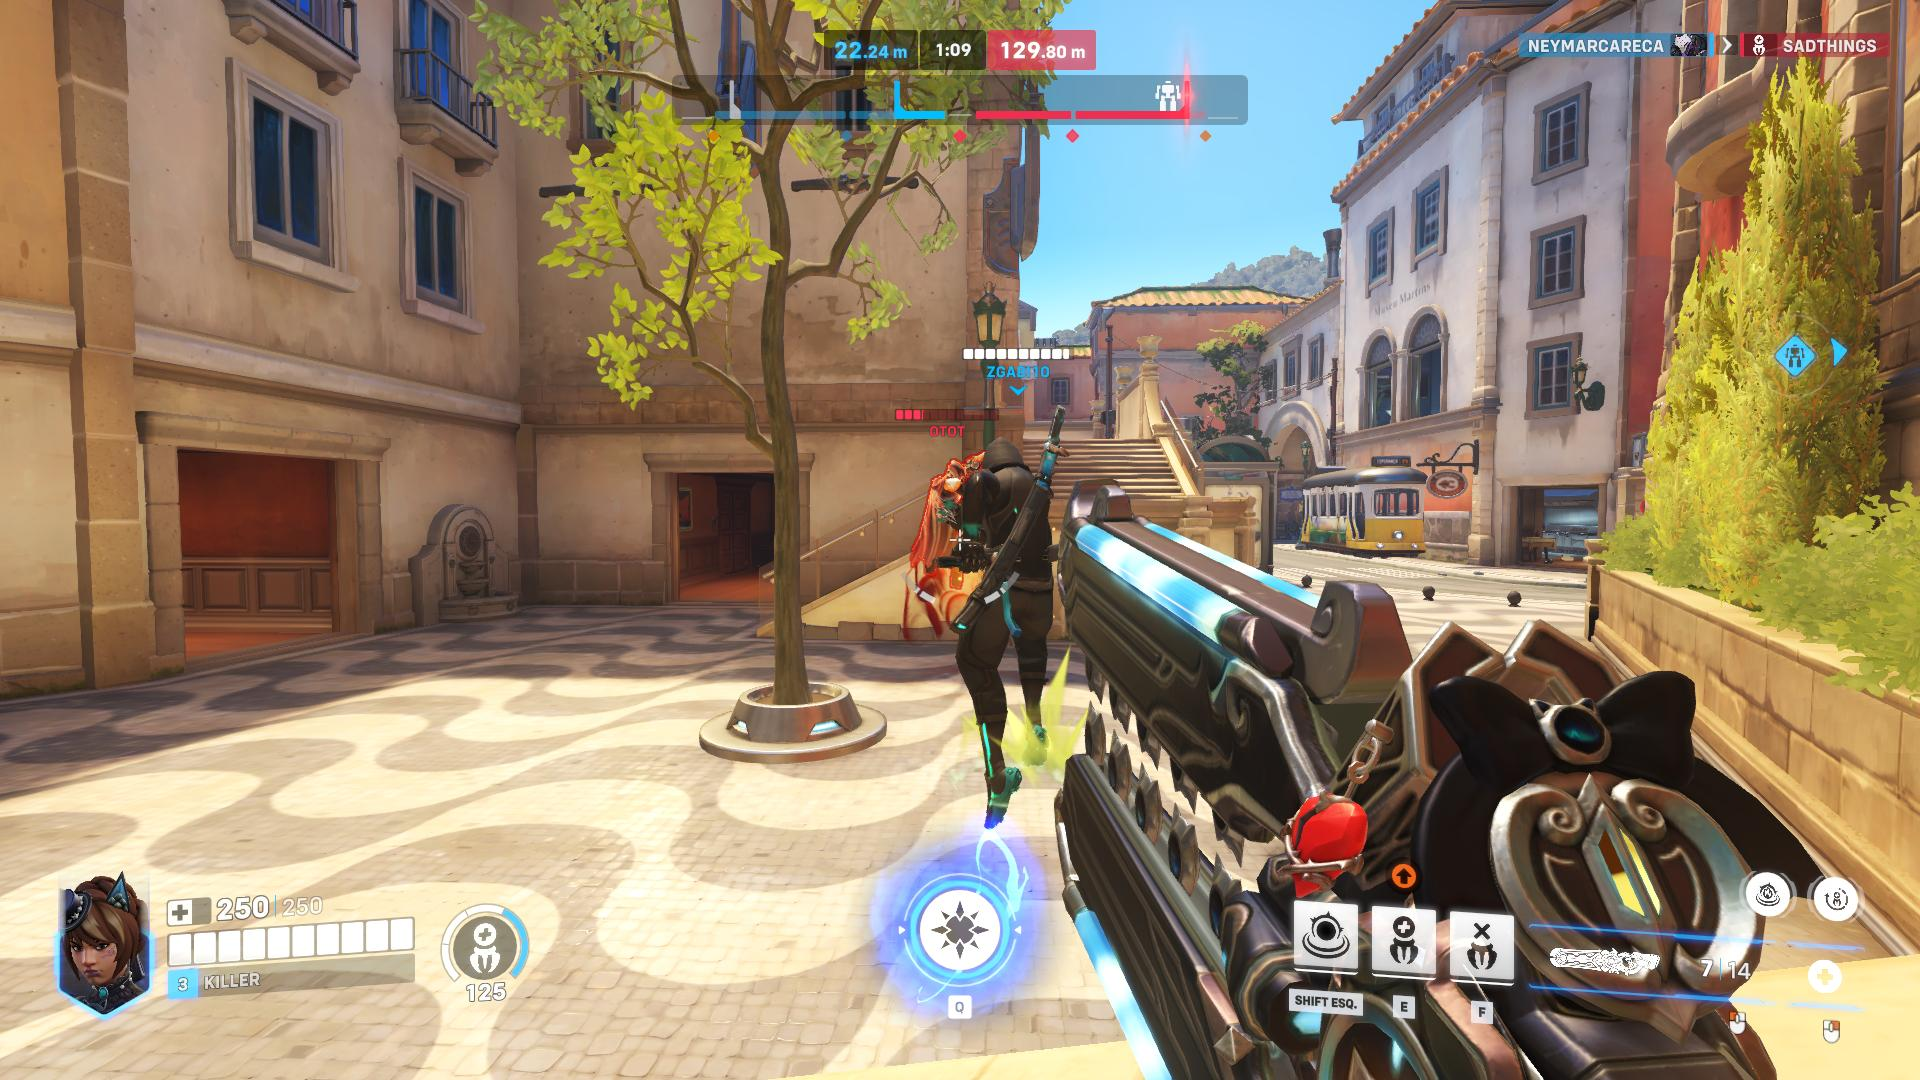enemy: (924, 458, 964, 588)
